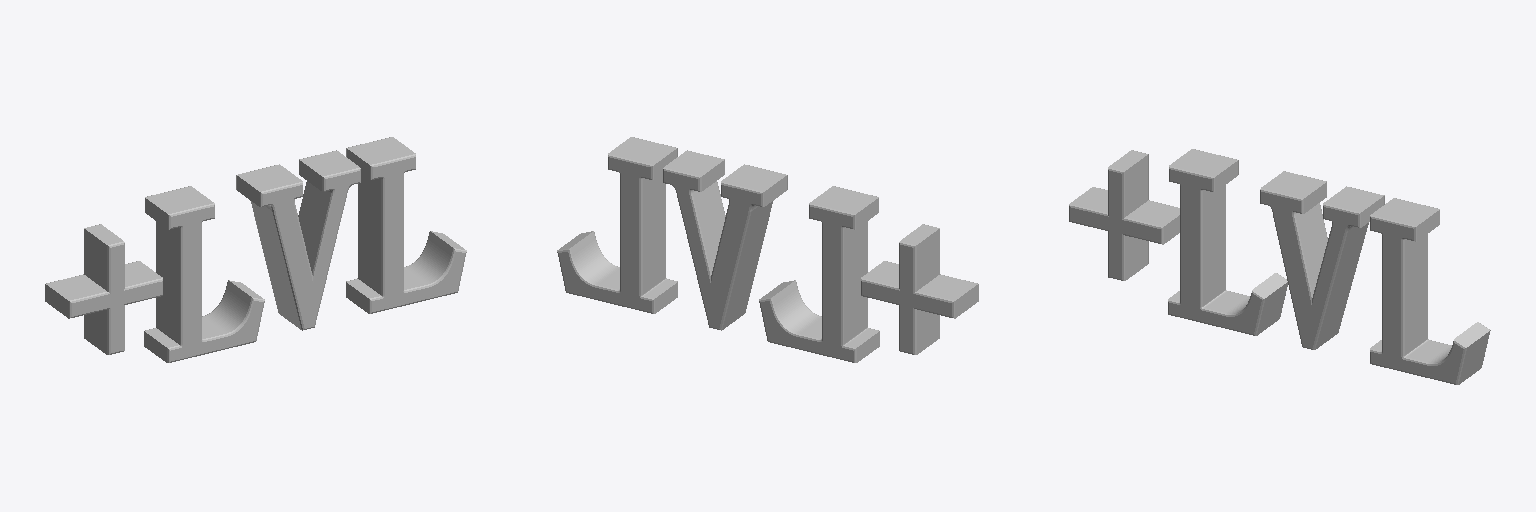
The model's file is LVL.obj.
3 renders of one model, left to right at view 1: azimuth 30°, elevation 25°; view 2: azimuth 150°, elevation 25°; view 3: azimuth 330°, elevation 25°, orthographic.
Visible parts, largest first — view 1: Text_CUText; view 2: Text_CUText; view 3: Text_CUText.
Boxes of the visible parts, x1=… form: Text_CUText: x1=45, y1=137, x2=466, y2=362; Text_CUText: x1=557, y1=137, x2=978, y2=362; Text_CUText: x1=1069, y1=149, x2=1490, y2=384.
Size of the model in its own units: 1.97 by 0.7052 by 0.22.